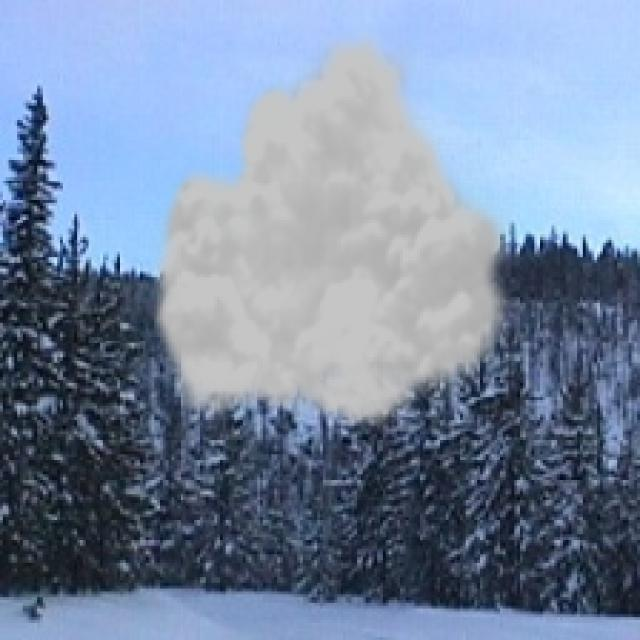smoke: (146, 26, 520, 431)
